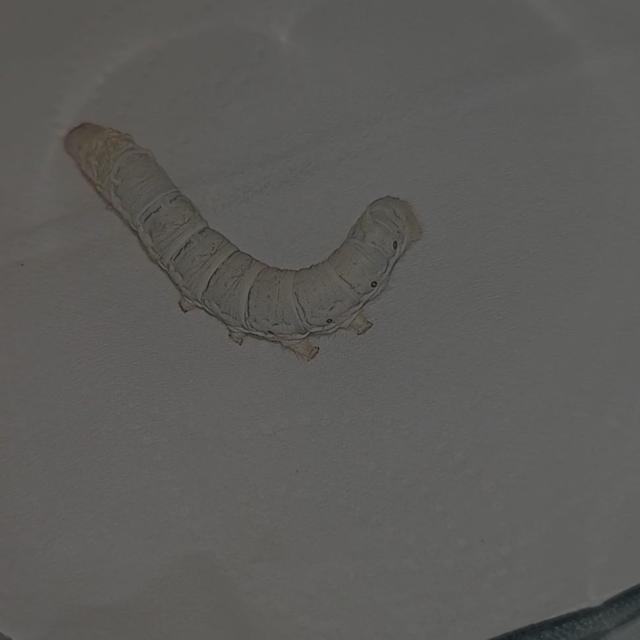Healthy: (38, 103, 466, 384)
